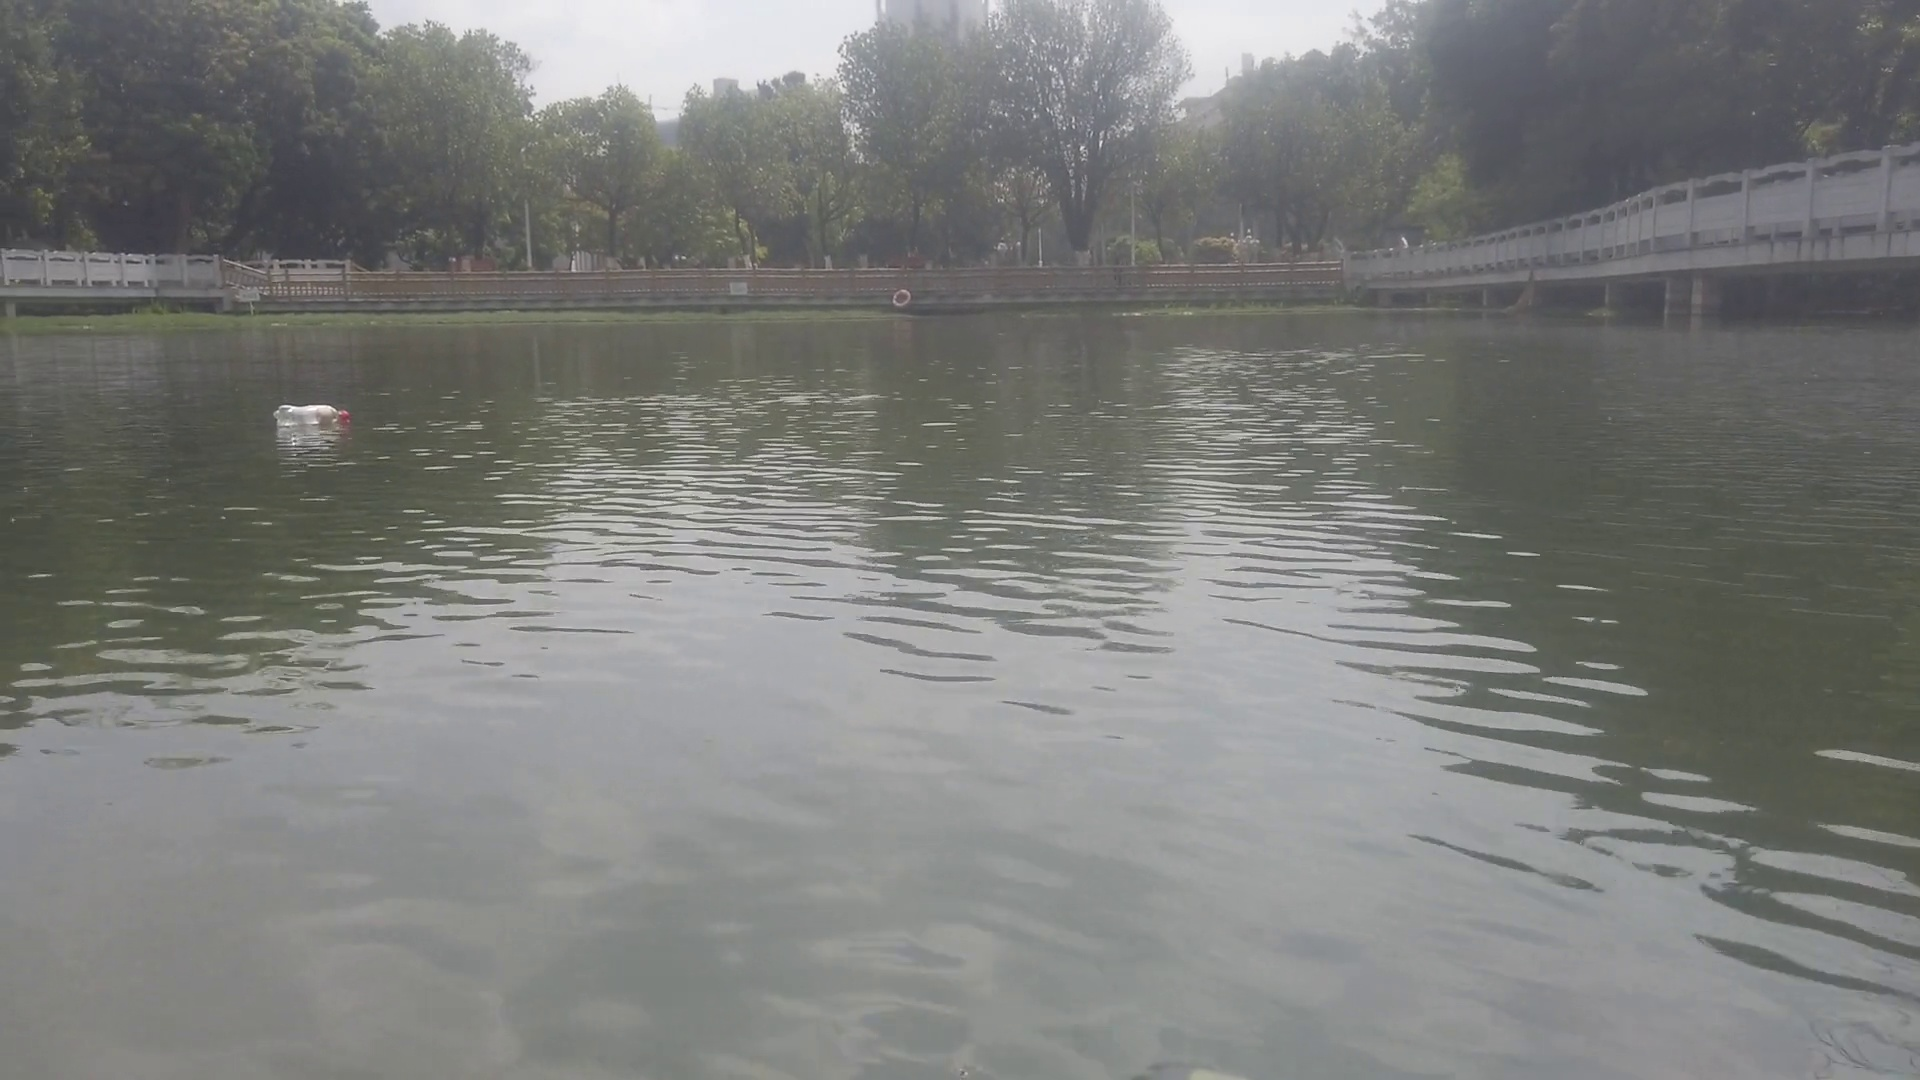bottle: (269, 401, 353, 426)
